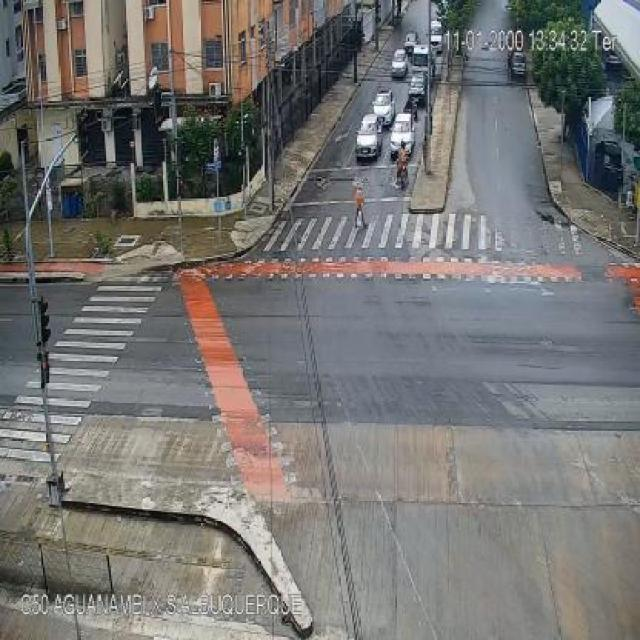Car: (356, 112, 381, 162), (390, 112, 414, 158), (373, 91, 397, 128)
Cycle: (395, 142, 412, 192)
